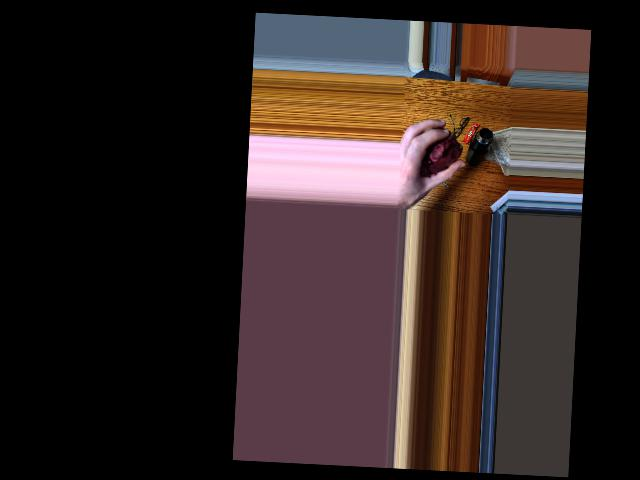onion: (418, 126, 459, 174)
